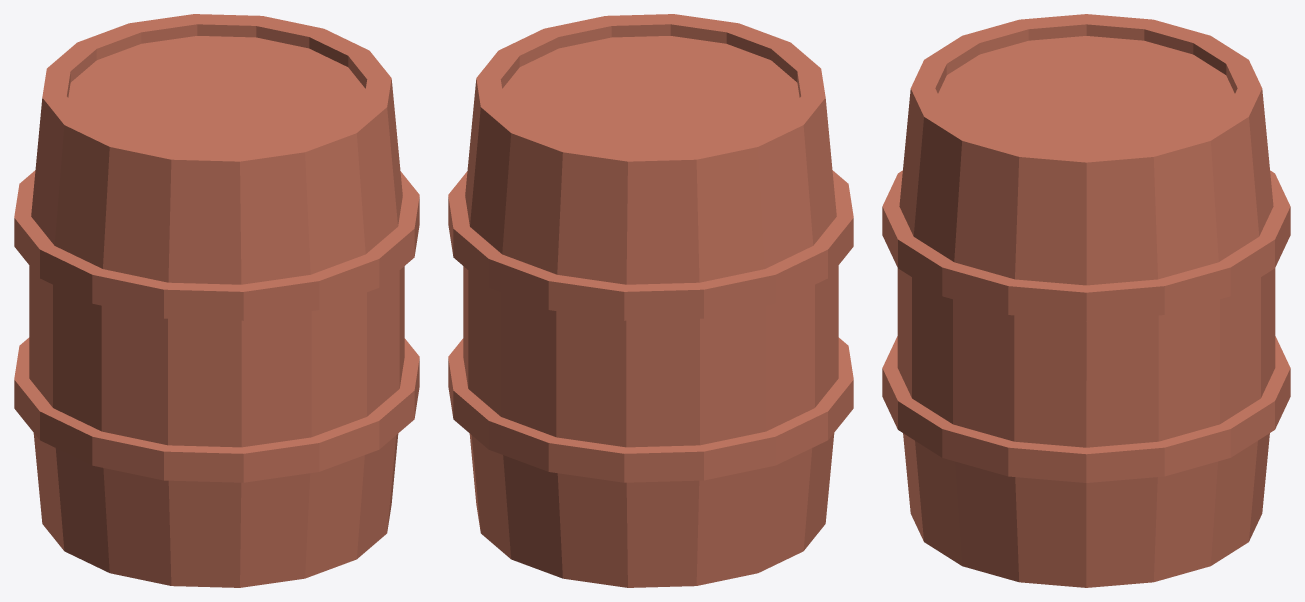
Rendered from Barrel.fbx.
3 views of the same model, side by side, from view 1: azimuth 30°, elevation 25°; view 2: azimuth 150°, elevation 25°; view 3: azimuth 270°, elevation 25° (orthographic).
Parts seen in each view (by area): view 1: Barrel; view 2: Barrel; view 3: Barrel.
Boxes of the visible parts, left/top/right/bottom form: Barrel: left=14, top=14, right=419, bottom=587; Barrel: left=448, top=14, right=853, bottom=587; Barrel: left=882, top=14, right=1290, bottom=587.
Size of the model in its own units: 232 by 267 by 232.
